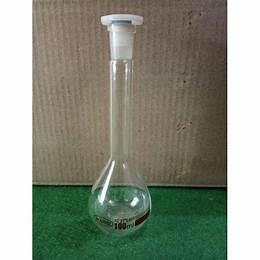Volumetric flask: (75, 11, 160, 237)
